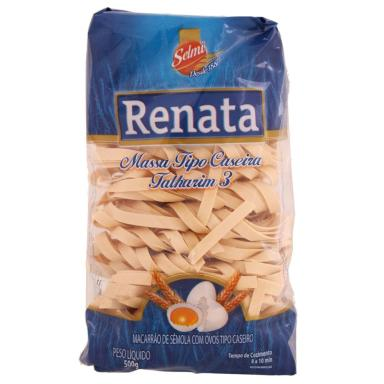pasta package: (81, 9, 296, 374)
